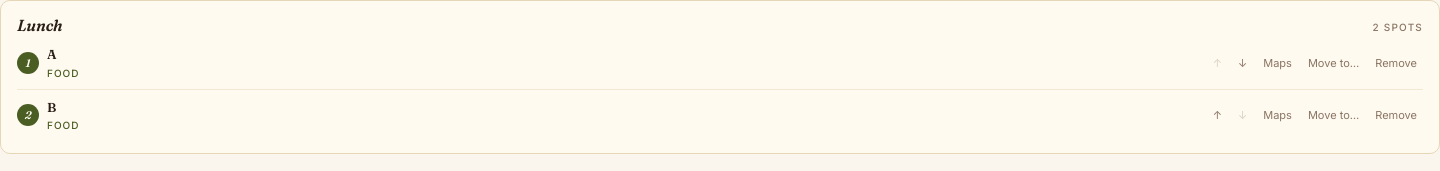
Scenario: <MealSlot> › swaps items when the down arrow is clicked
Click the button named "Move down".
click(1243, 63)  # box [1232, 52, 1253, 74]
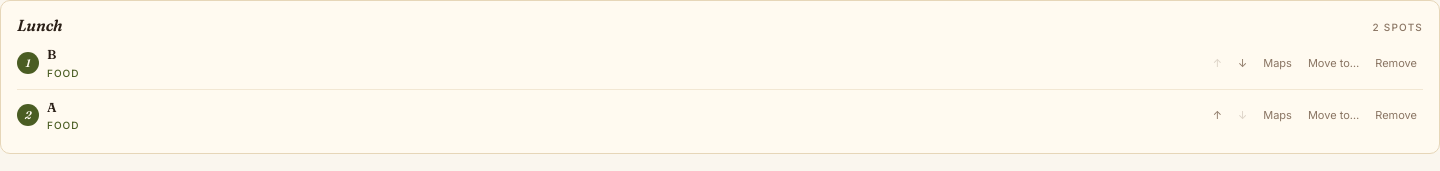
Result: the elements with test id "meal-slot-name" read "B", "A", in this order at [47, 46, 56, 62]; [47, 98, 56, 114]
